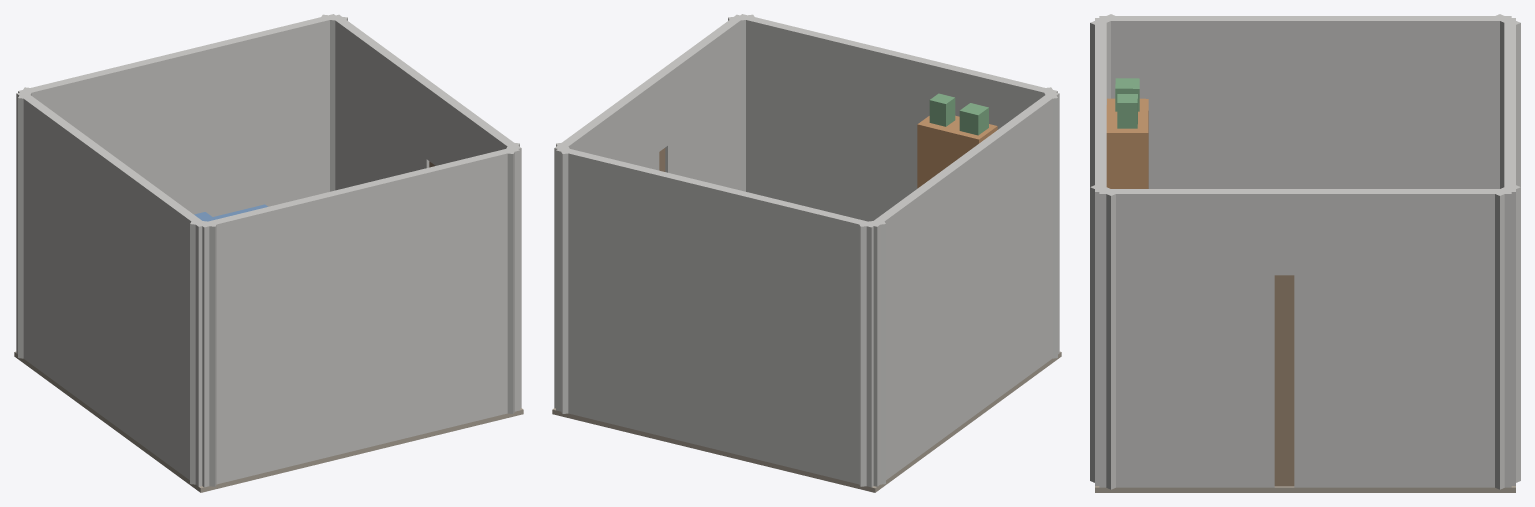
The model's file is room_068.glb.
The picture shows the model from 3 angles, left to right: view 1: azimuth 30°, elevation 25°; view 2: azimuth 150°, elevation 25°; view 3: azimuth 270°, elevation 25°; orthographic projection. The views are drawn at different scales.
Visible parts, largest first — view 1: shell_wall_3_s0, shell_wall_1_s0, shell_wall_7_s0, shell_wall_5_s2, shell_wall_5_s0, shell_wall_2_s0, shell_floor, shell_wall_4_s0, shell_wall_0_s0, shell_wall_6_s0, shell_wall_5_s1; view 2: shell_wall_7_s0, shell_wall_1_s0, shell_wall_3_s0, shell_wall_5_s0, shell_wall_5_s2, shell_wall_0_s0, obj_010, shell_floor, shell_wall_6_s0, shell_wall_2_s0, shell_wall_4_s0, obj_000 (+2 smaller); view 3: shell_wall_1_s0, shell_wall_5_s2, shell_wall_5_s0, shell_wall_4_s0, shell_wall_6_s0, shell_wall_5_door, shell_wall_3_s0, shell_wall_7_s0, obj_010, shell_floor, shell_wall_5_s1, shell_wall_0_s0 (+3 smaller).
Boxes of the visible parts, x1,y1,x2,y2 form: shell_wall_3_s0: [200, 146, 519, 487]; shell_wall_1_s0: [16, 91, 206, 486]; shell_wall_7_s0: [18, 14, 335, 216]; shell_wall_5_s2: [330, 14, 434, 190]; shell_wall_5_s0: [435, 91, 521, 408]; shell_wall_2_s0: [190, 220, 217, 486]; shell_floor: [14, 351, 523, 492]; shell_wall_4_s0: [504, 143, 519, 413]; shell_wall_0_s0: [18, 87, 34, 358]; shell_wall_6_s0: [320, 14, 347, 191]; shell_wall_5_s1: [426, 85, 443, 164]; shell_wall_7_s0: [556, 146, 873, 487]; shell_wall_1_s0: [869, 91, 1059, 486]; shell_wall_3_s0: [737, 14, 1057, 221]; shell_wall_5_s0: [660, 14, 740, 190]; shell_wall_5_s2: [554, 77, 659, 408]; shell_wall_0_s0: [858, 220, 885, 486]; obj_010: [917, 115, 997, 188]; shell_floor: [552, 351, 1061, 492]; shell_wall_6_s0: [556, 143, 572, 413]; shell_wall_2_s0: [1044, 87, 1057, 358]; shell_wall_4_s0: [728, 14, 754, 191]; obj_000: [959, 103, 988, 135]; shell_wall_1_s0: [1099, 16, 1511, 188]; shell_wall_5_s2: [1294, 189, 1511, 487]; shell_wall_5_s0: [1099, 189, 1274, 487]; shell_wall_4_s0: [1090, 183, 1118, 489]; shell_wall_6_s0: [1492, 183, 1520, 489]; shell_wall_5_door: [1274, 275, 1294, 486]; shell_wall_3_s0: [1095, 18, 1106, 485]; shell_wall_7_s0: [1504, 18, 1515, 485]; obj_010: [1106, 98, 1148, 188]; shell_floor: [1095, 486, 1515, 492]; shell_wall_5_s1: [1274, 189, 1294, 275]; shell_wall_0_s0: [1492, 14, 1520, 188].
Size of the model in its own units: 3.72 by 2.85 by 3.72.
